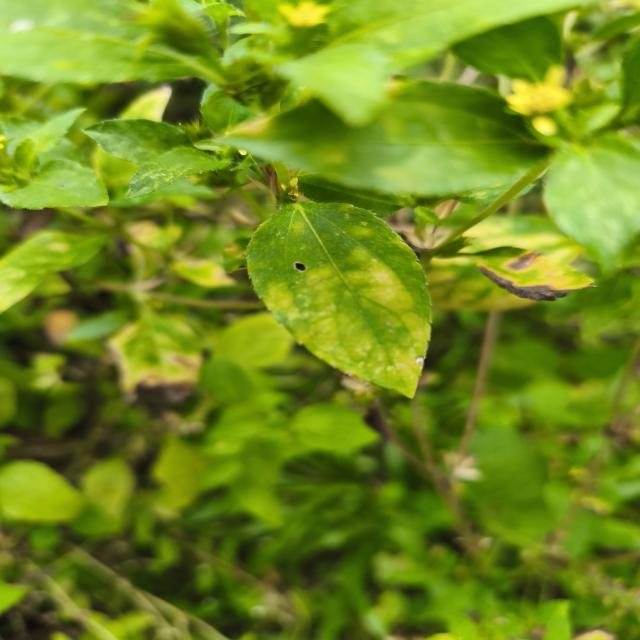Virus Kuning: (195, 77, 532, 207), (244, 198, 433, 400)
